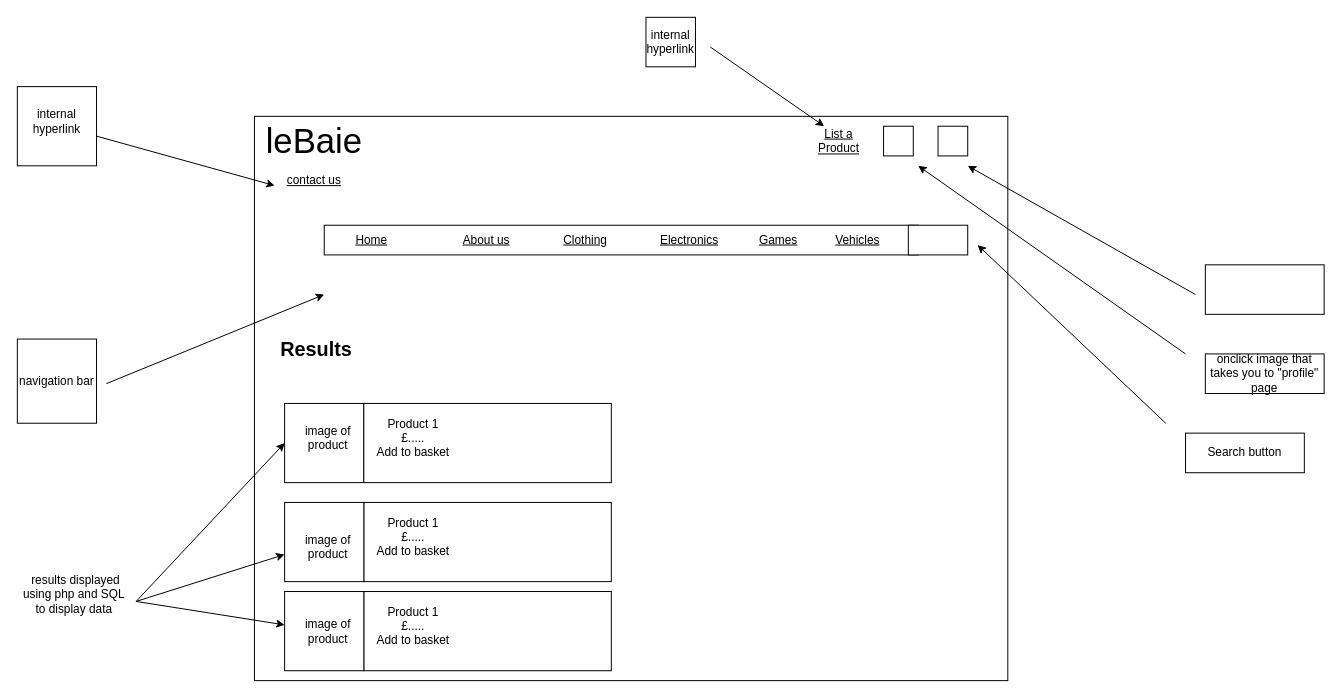
Some shapes in this 1341 by 698 pixel diagram are drawn without their labels. Each missing label, with the centre of its shape:
onclick image that takes you to "basket" page: (1264,289)
Search: (937,239)
